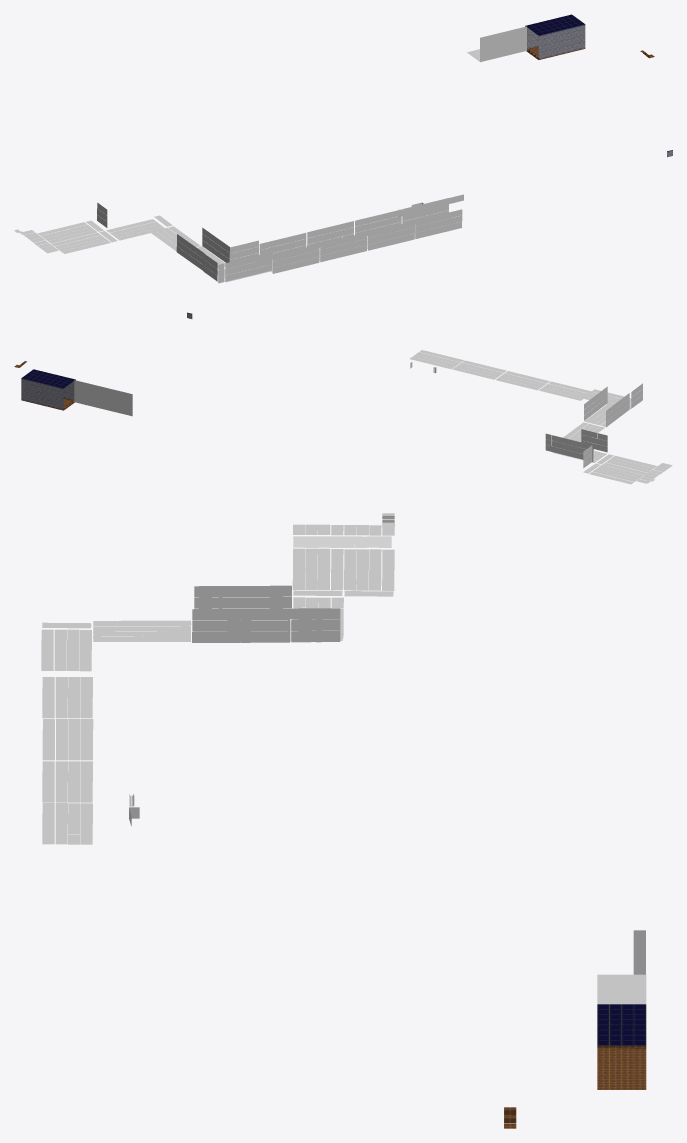
File: wall_up.glb
3 renders of one model, top to bottom at view 1: azimuth 30°, elevation 25°; view 2: azimuth 150°, elevation 25°; view 3: azimuth 270°, elevation 25°, orthographic. The views are drawn at different scales.
Parts seen in each view (by area): view 1: Plane; view 2: Plane; view 3: Plane.
Boxes of the visible parts, x1,y1,x2,y2 form: Plane: (14,194,463,283); Plane: (409,350,672,484); Plane: (41,513,395,844).
Size of the model in its own units: 230 by 13 by 98.97.
5 materials, 5 textured.
